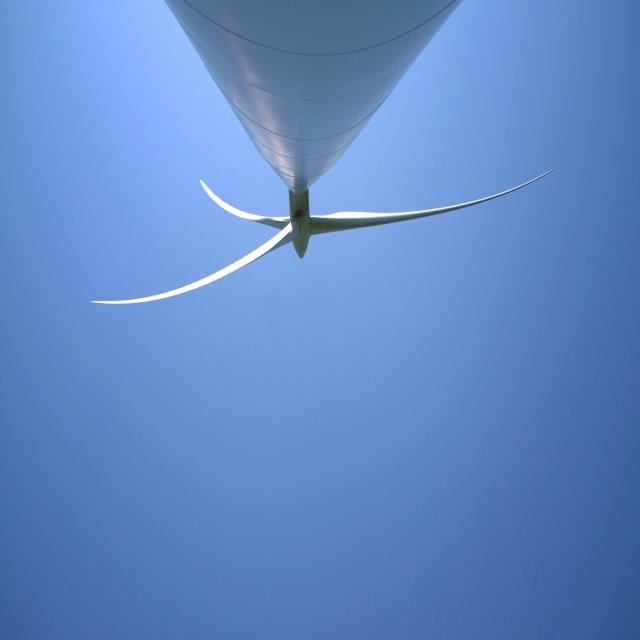blade 1: (138, 172, 274, 230)
blade 2: (90, 263, 264, 330)
blade 3: (330, 171, 514, 246)
